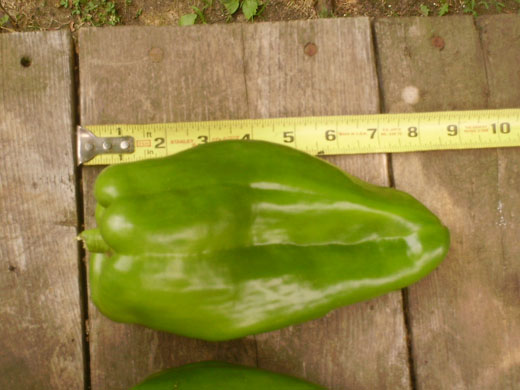capsicum: (79, 140, 449, 345)
